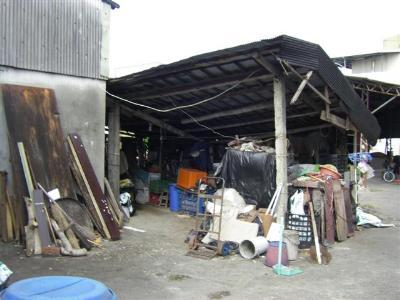box: (176, 164, 208, 191)
bucket: (265, 239, 290, 269), (281, 229, 301, 263), (239, 236, 269, 258)
